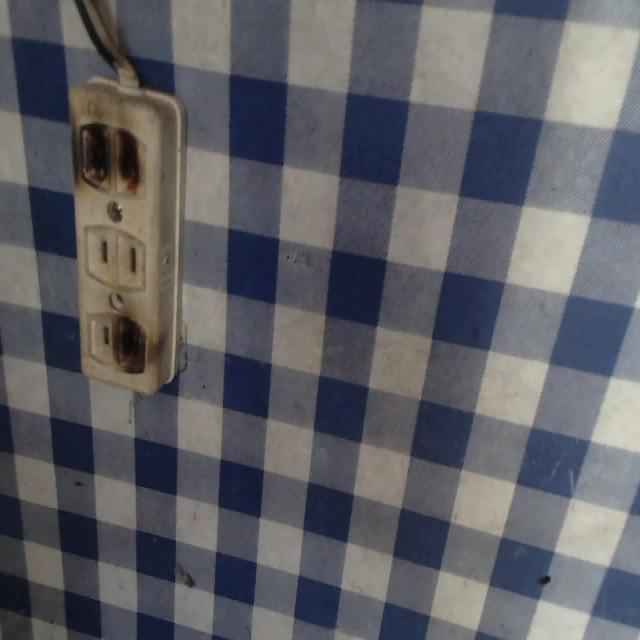-: (67, 115, 147, 201), (109, 309, 151, 380)
